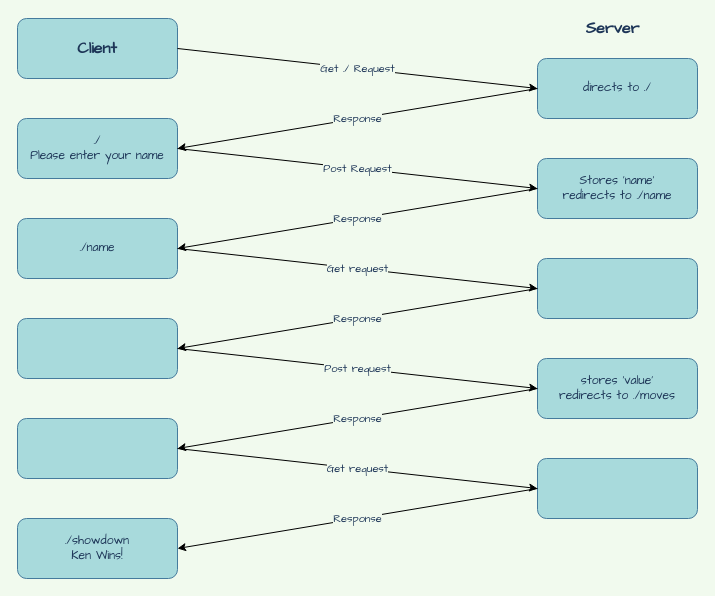
This 715x596 diagram has some shape labels left out. Each missing label, with the box of its shape:
./moves: (16, 418, 178, 478)
./play Select a move: (16, 318, 178, 378)
redirects to ./play: (536, 258, 698, 318)
redirects to ./showdown: (536, 458, 698, 518)
